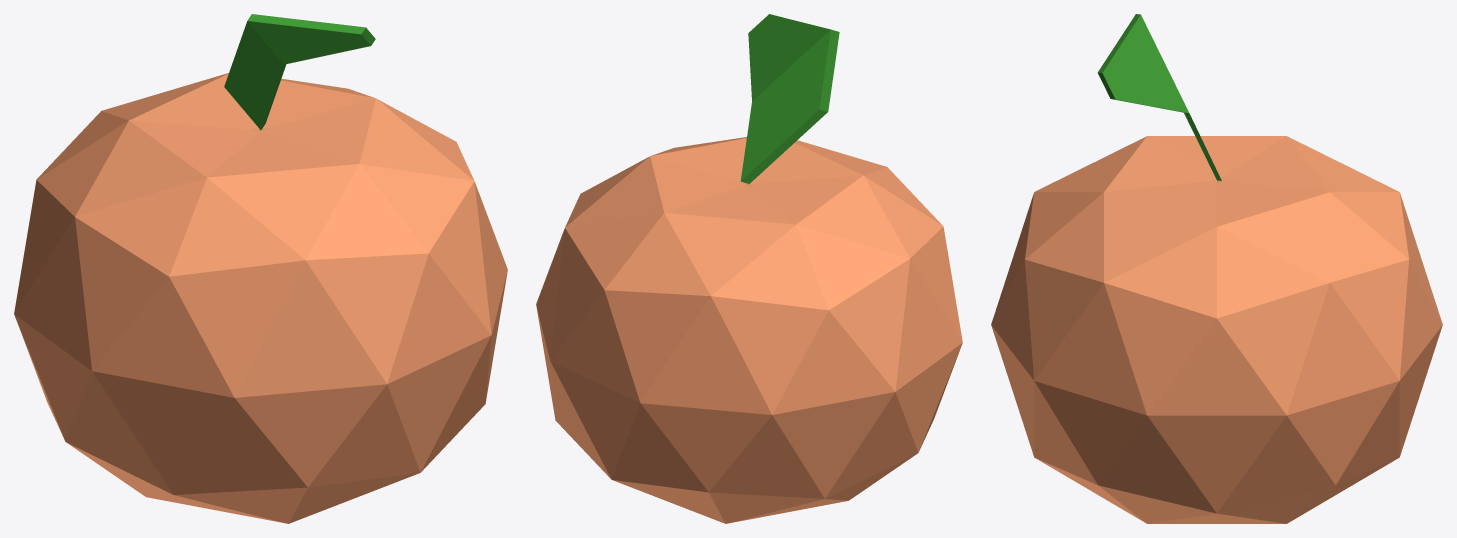
Rendered from Orange.fbx.
3 views of the same model, side by side, from view 1: azimuth 30°, elevation 25°; view 2: azimuth 150°, elevation 25°; view 3: azimuth 270°, elevation 25° (orthographic). The views are drawn at different scales.
Parts seen in each view (by area): view 1: Icosphere; view 2: Icosphere; view 3: Icosphere.
Boxes of the visible parts, bbox=[...] form: Icosphere: bbox=[14, 14, 507, 523]; Icosphere: bbox=[536, 14, 962, 523]; Icosphere: bbox=[991, 14, 1442, 523].
Size of the model in its own units: 190 by 228 by 200.
1 material, 1 textured.
